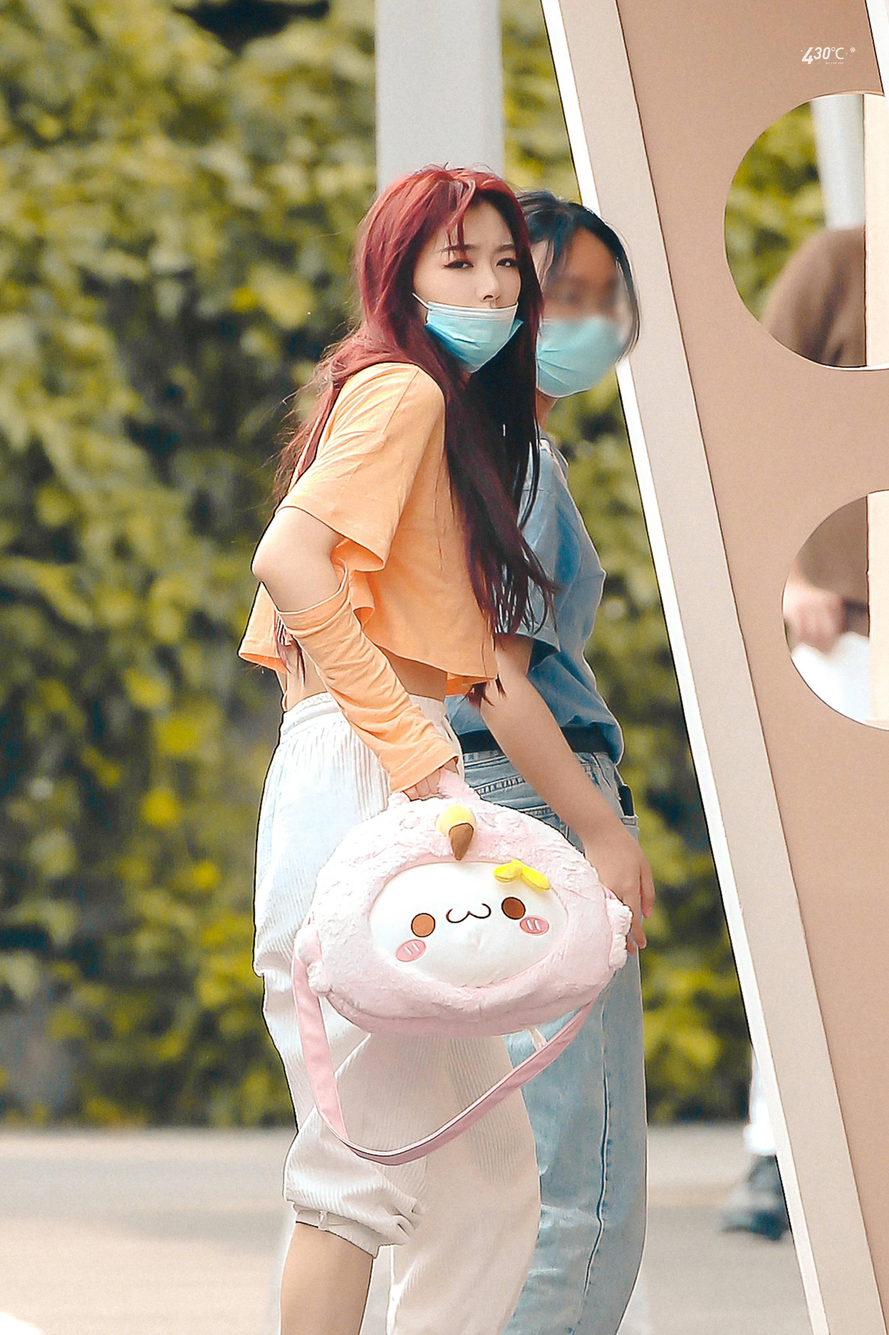OK: (539, 249, 621, 394)
WRONG: (420, 228, 522, 369)
